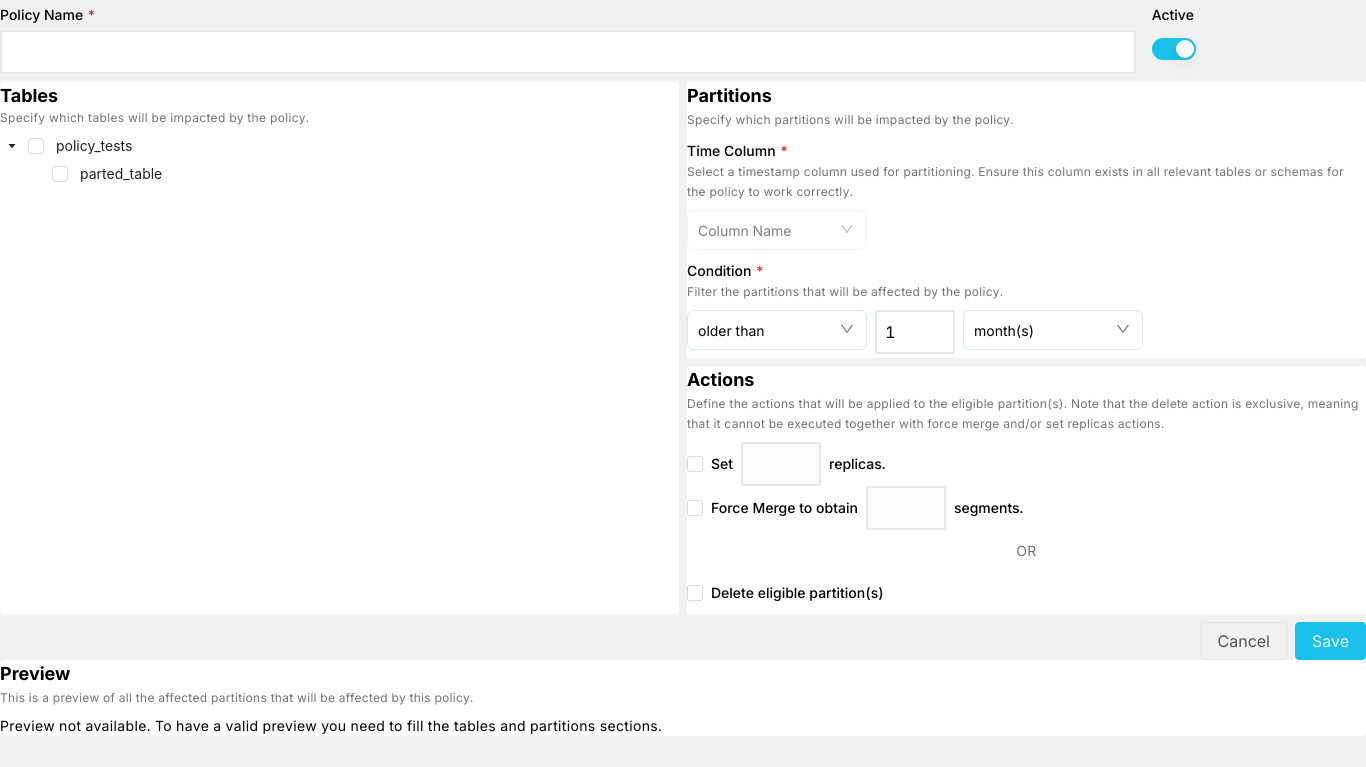
Scenario: The "PolicyForm" component › the "Actions" field › the "force merge" action › gives validation error if enabled but value is empty
Click the checkbox with test id "forceMerge-enabled".
click(695, 508)  # box [687,500,703,516]
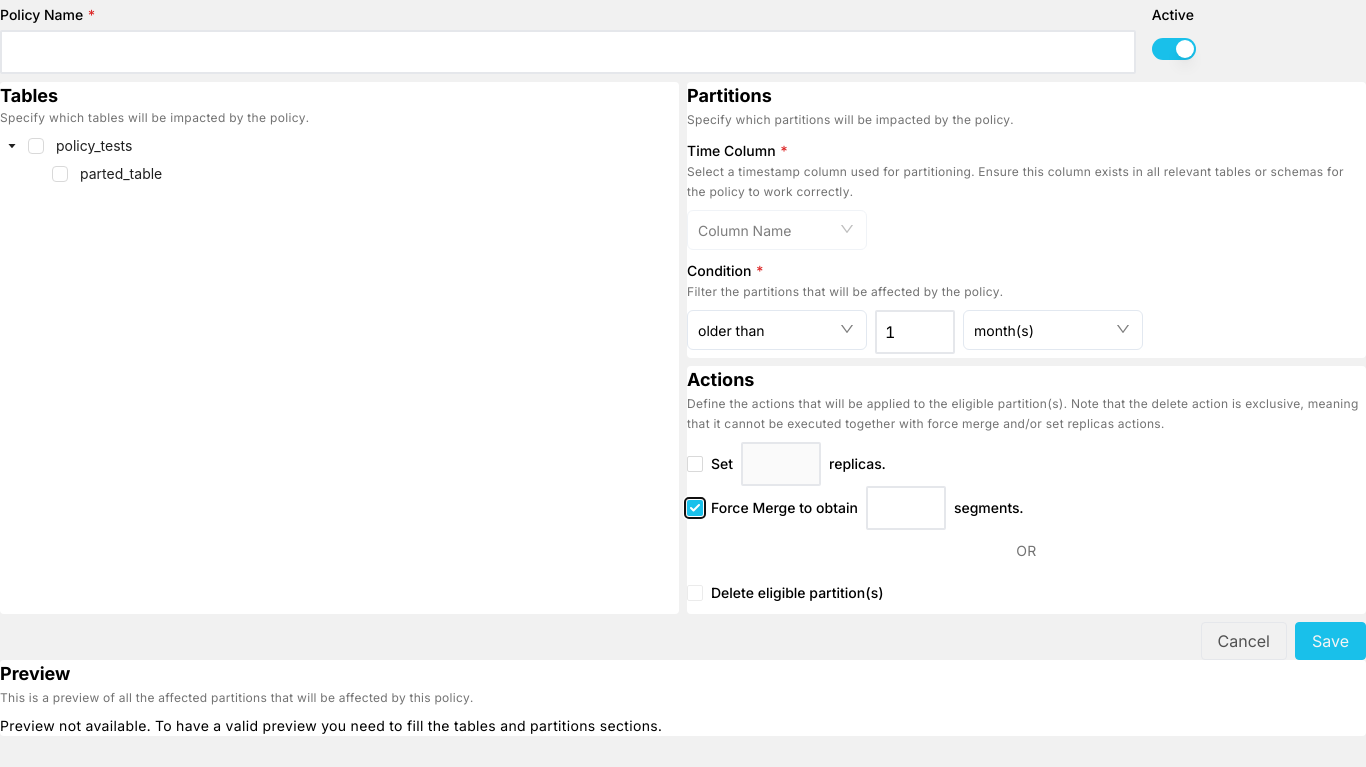
Click the button "Save".
click(1330, 641)  # box [1295,622,1365,660]
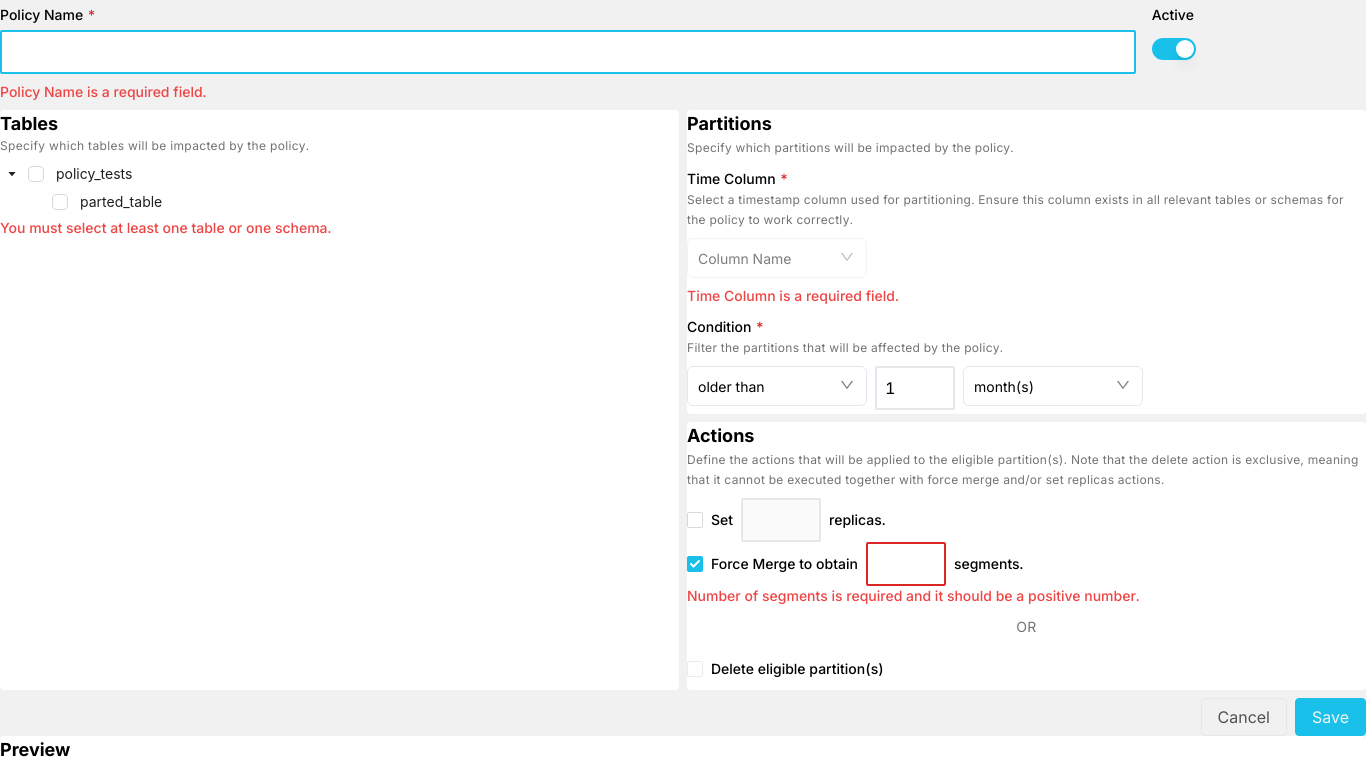
Now the text "Number of segments is required and it should be a positive number." is shown, box [687,587,1140,604]
